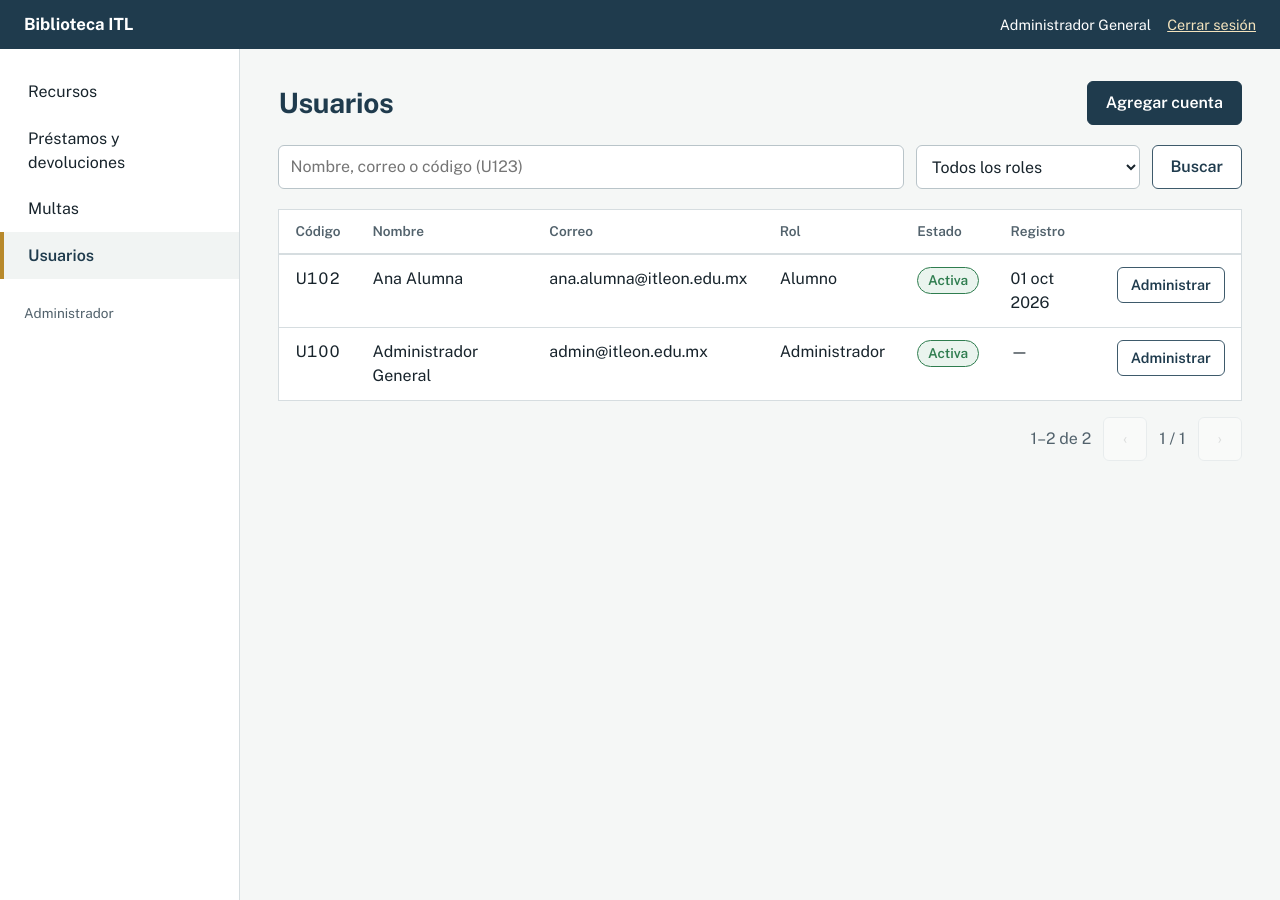
Test case: Administración de usuarios (sección 5.7) › bloquear una cuenta envía solo el cambio y muestra la confirmación
This screenshot has width=1280, height=900.
Click the button "Administrar" in the row of "U102" at point(1171, 285), box [1117, 267, 1225, 303]
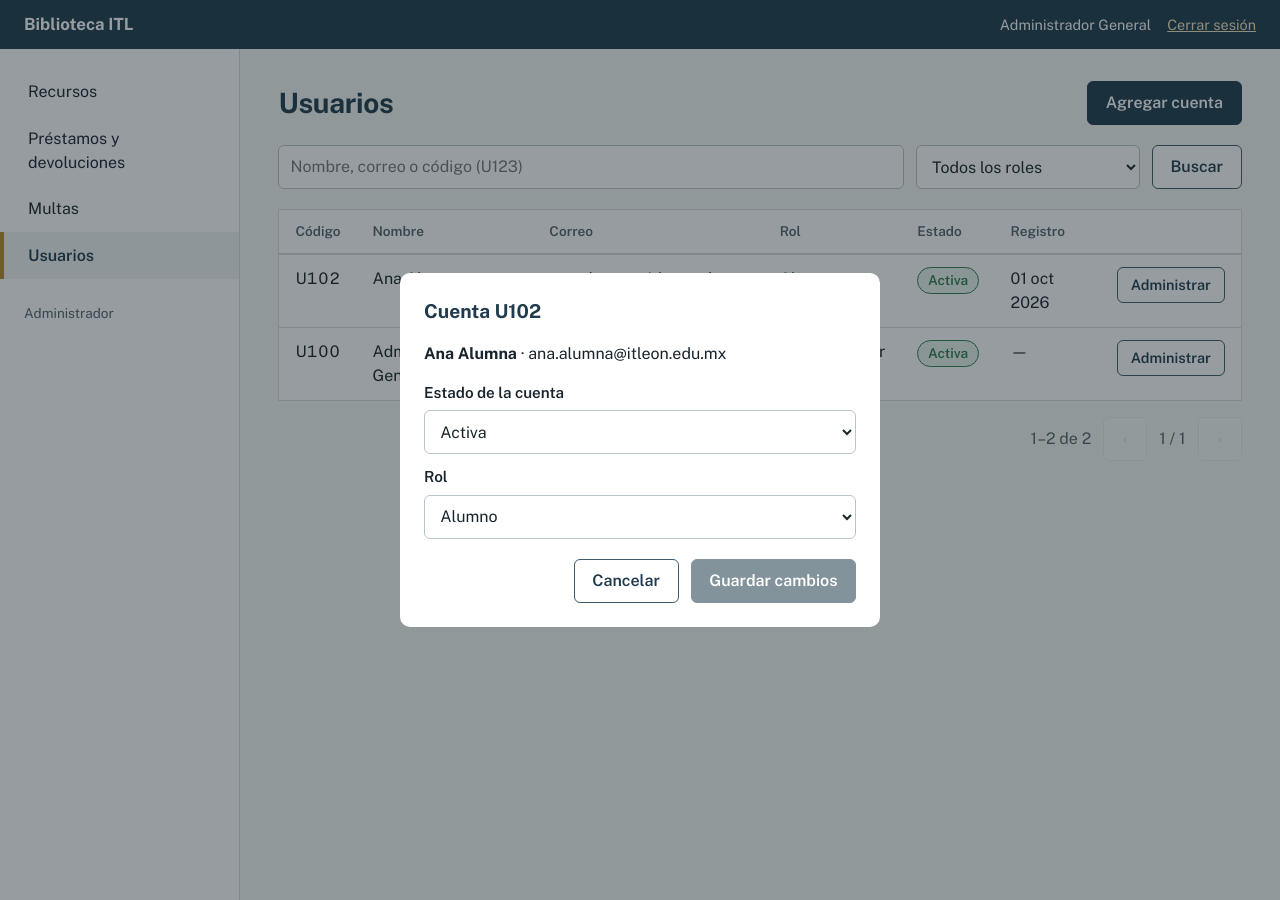
Expected: the button "Guardar cambios" is disabled, [691, 559, 856, 603]
Select "Bloqueada" in the dropdown labelled "Estado de la cuenta" at point(640, 432), box [424, 410, 856, 454]
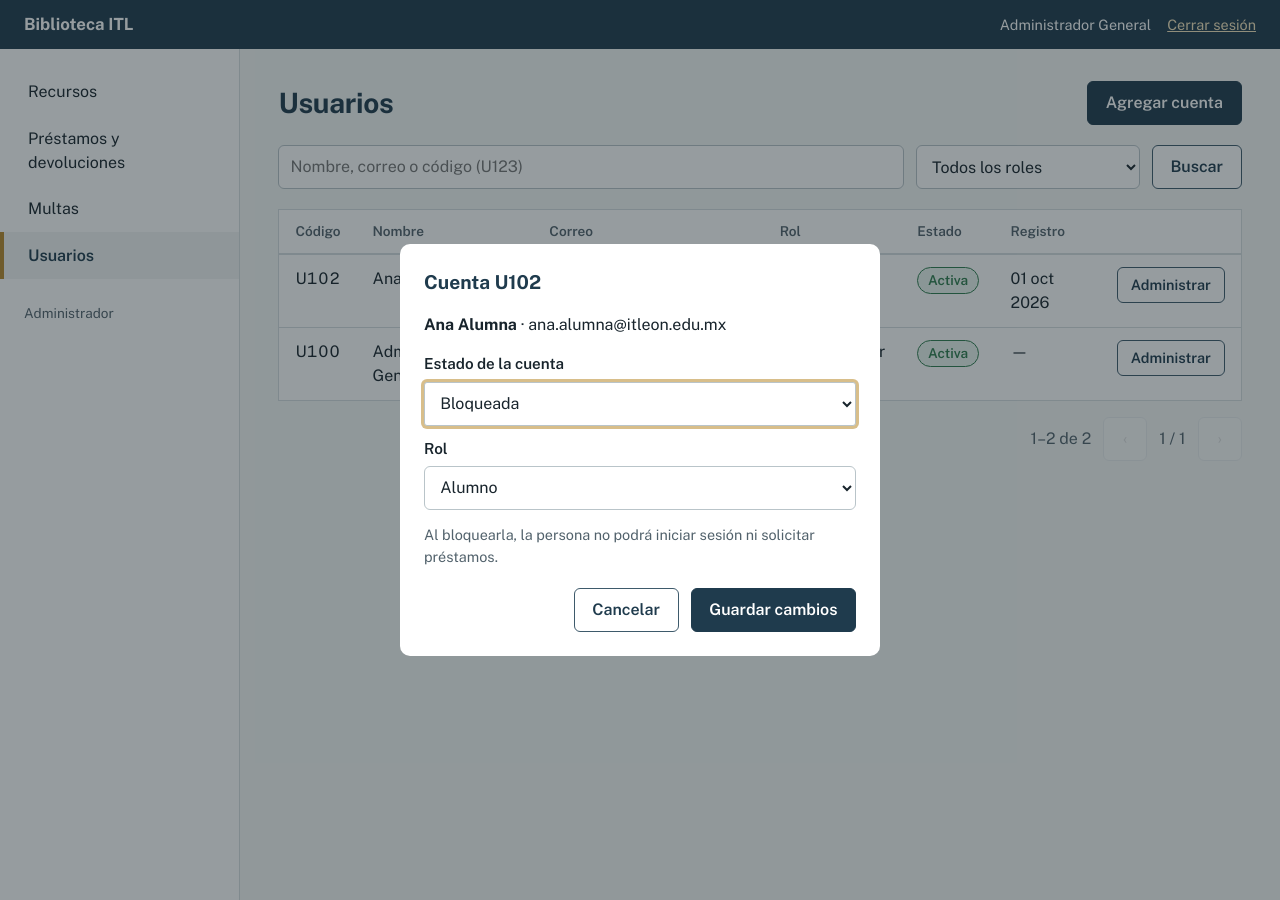
Expected: the text "no podrá iniciar sesión" is shown, [424, 526, 815, 565]
Click the button "Guardar cambios" at point(773, 610), box [691, 588, 856, 632]
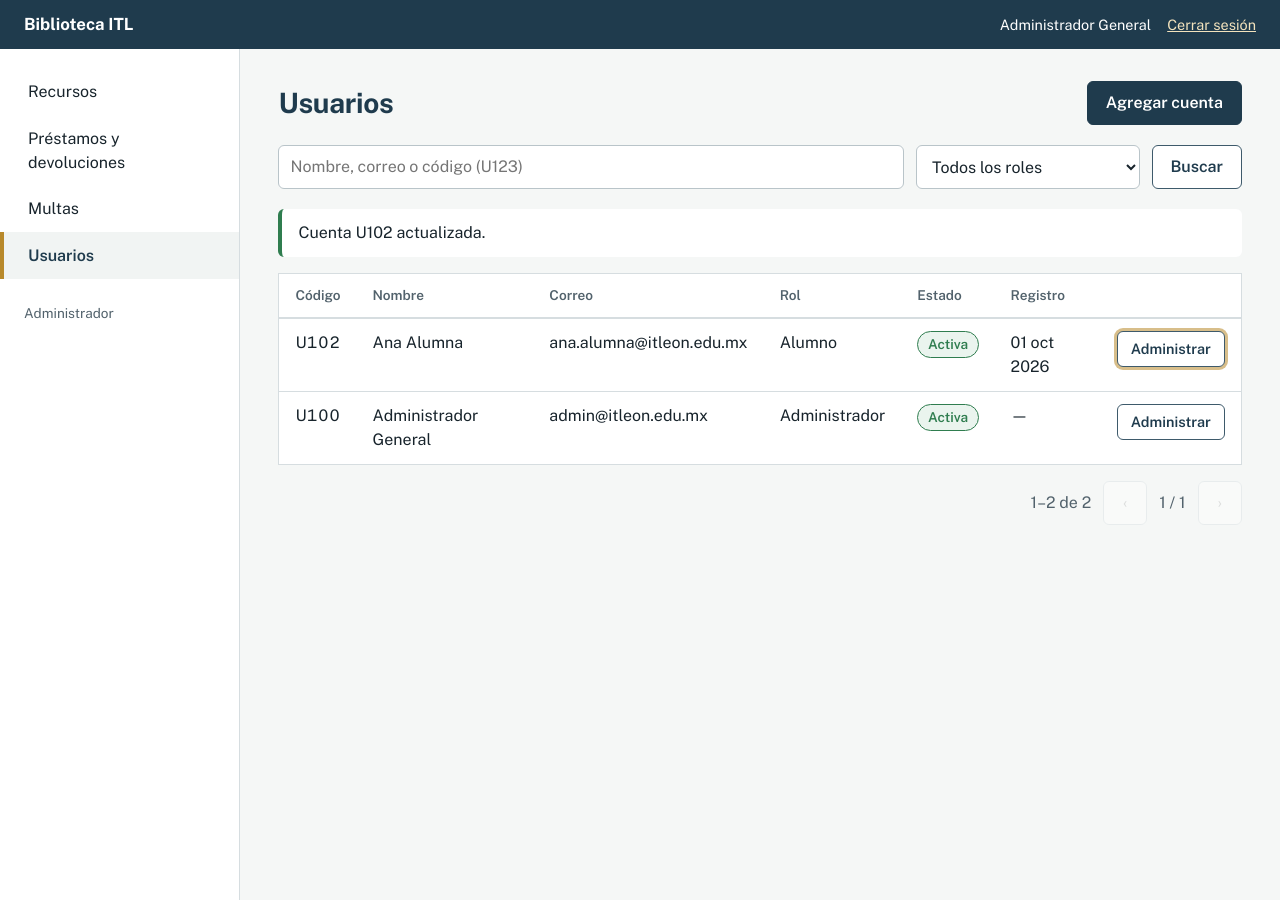
Expected: the text "Cuenta U102 actualizada." is shown, [278, 209, 1242, 257]
